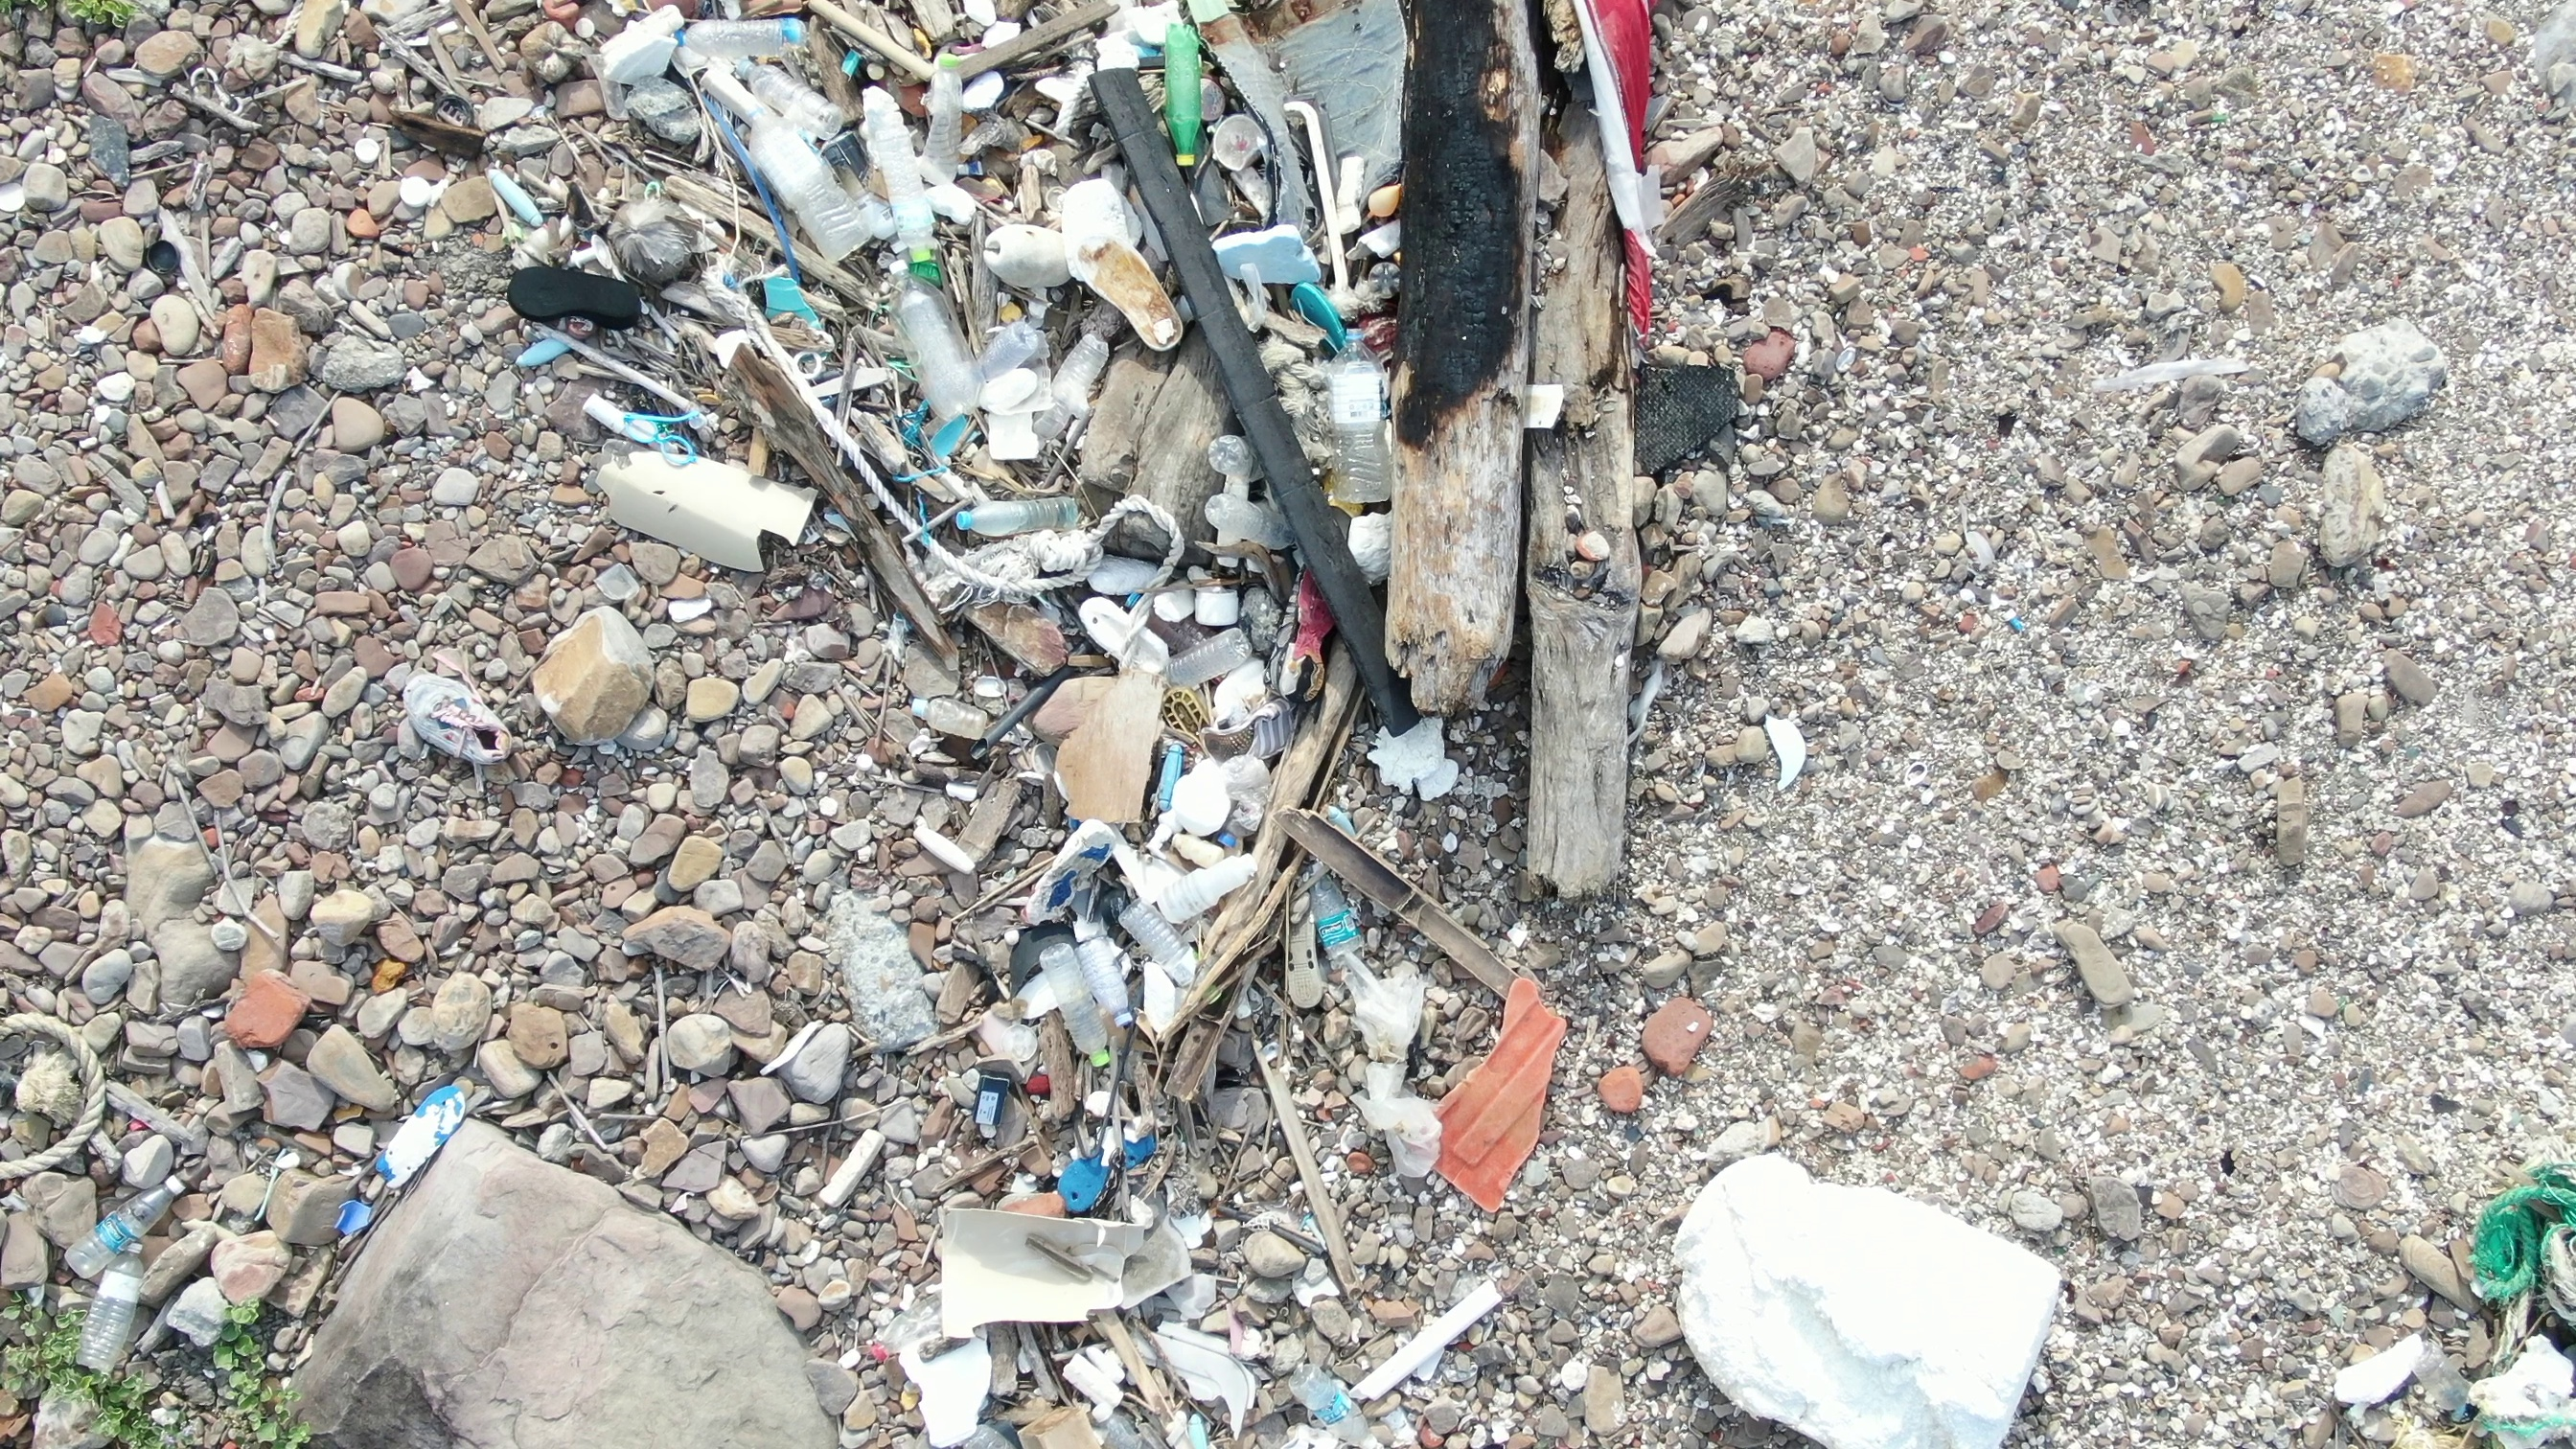bottle: (734, 99, 876, 264), (886, 251, 998, 418), (55, 1164, 200, 1281), (1329, 318, 1408, 515), (76, 1238, 168, 1385), (725, 53, 855, 126), (1113, 899, 1212, 991), (1284, 1348, 1387, 1437), (1191, 487, 1315, 557), (1040, 936, 1109, 1062), (1313, 856, 1380, 984), (1159, 19, 1212, 173), (660, 9, 814, 60), (1074, 915, 1143, 1016), (950, 488, 1081, 541), (1164, 623, 1256, 685), (924, 44, 966, 175), (1201, 418, 1274, 487)
garbage: (476, 9, 1665, 1449), (2452, 1115, 2571, 1449), (311, 1047, 481, 1249), (2, 998, 124, 1180)
